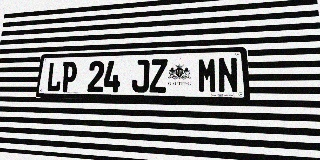2: (87, 61, 105, 92)
4: (103, 60, 121, 92)
J: (131, 59, 149, 92)
L: (46, 62, 63, 92)
M: (198, 58, 217, 93)
N: (217, 57, 239, 93)
P: (60, 61, 78, 92)
Z: (149, 59, 167, 93)
